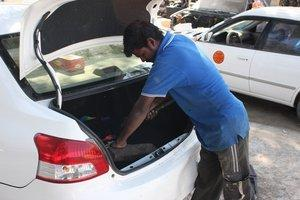person: (108, 20, 256, 200)
